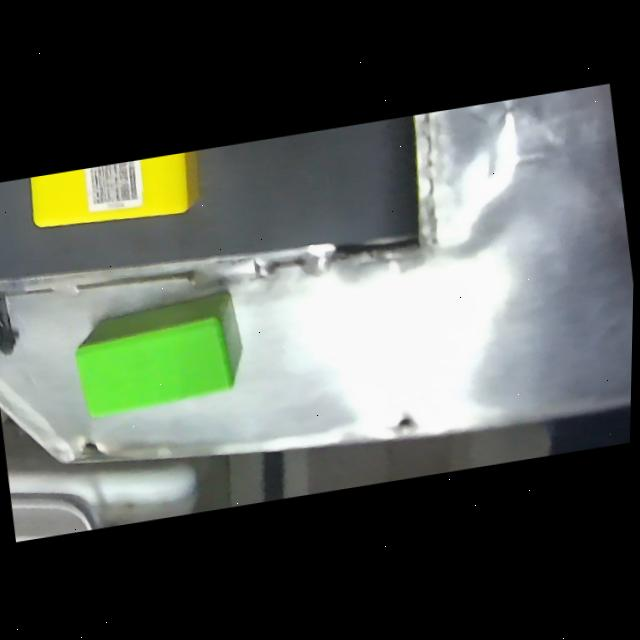greenBox: (63, 280, 266, 426)
yellowBox: (26, 150, 216, 244)
